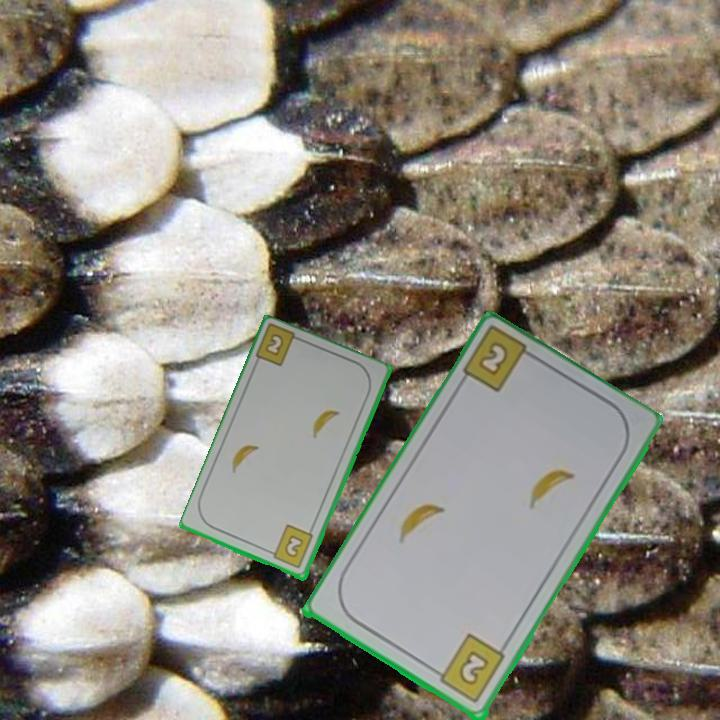2b: (429, 631, 508, 707), (265, 522, 316, 572), (474, 342, 508, 379), (262, 330, 287, 359)
